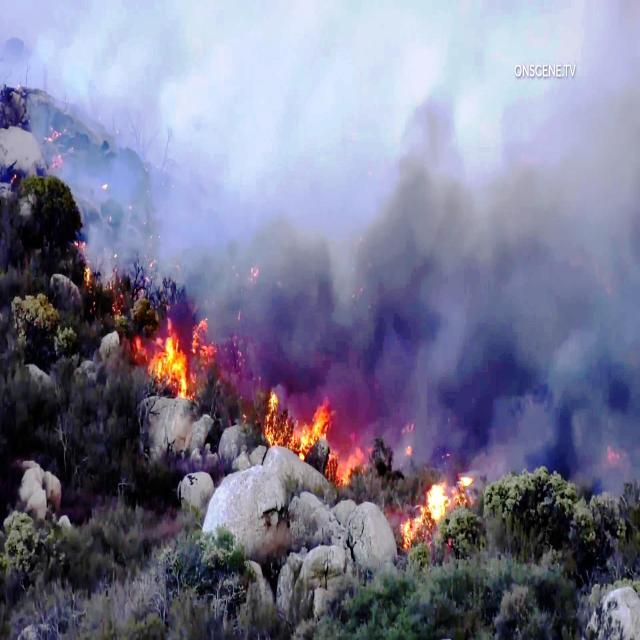Fire: (252, 386, 382, 486), (124, 299, 208, 404), (393, 471, 472, 564)
Smoke: (0, 3, 640, 270), (210, 276, 640, 390), (362, 397, 640, 484)
